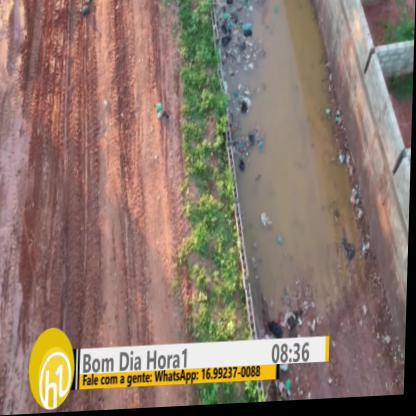agua: (253, 0, 324, 313)
